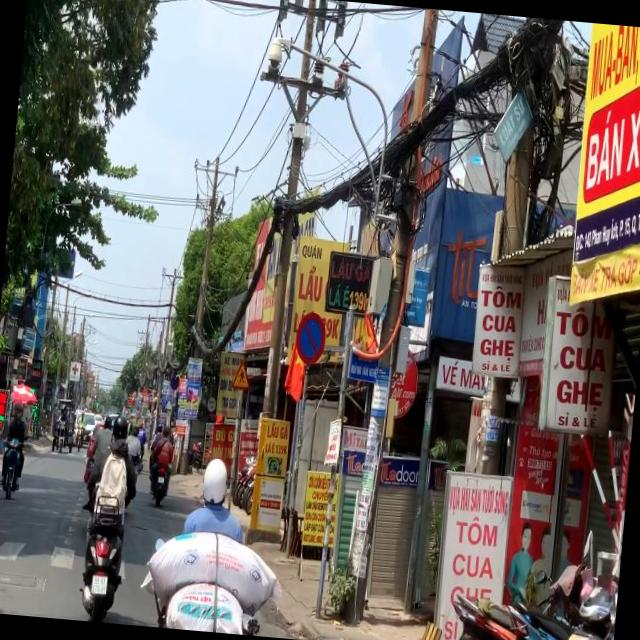P-131a: (294, 308, 326, 364)
